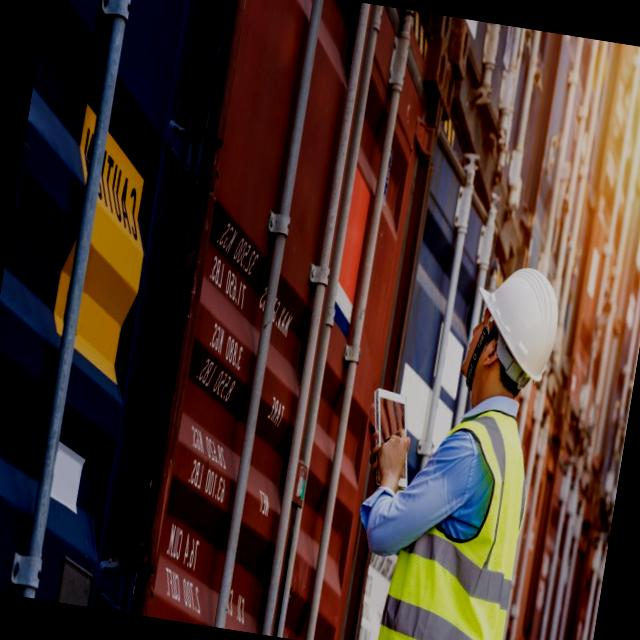helmet: (456, 258, 577, 390)
vest: (371, 390, 542, 640)
